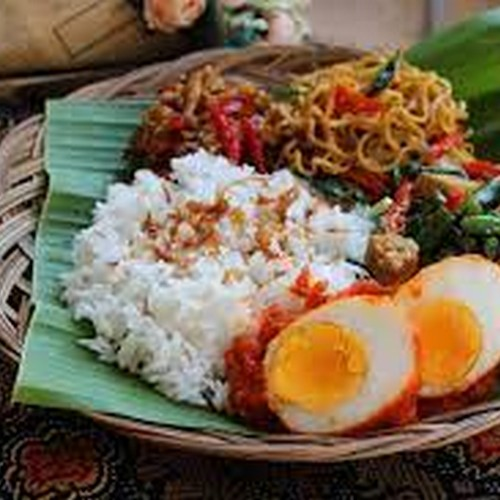nasi jinggo: (110, 86, 500, 406)
